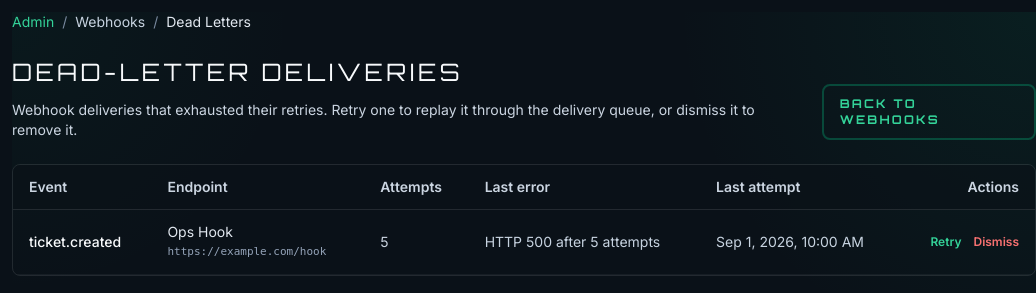
AdminWebhookDeadLettersPage › clears the busy state when a row action rejects
Click the button with aria-label "Retry ticket.created" at x=946, y=242, box [930, 234, 961, 250]
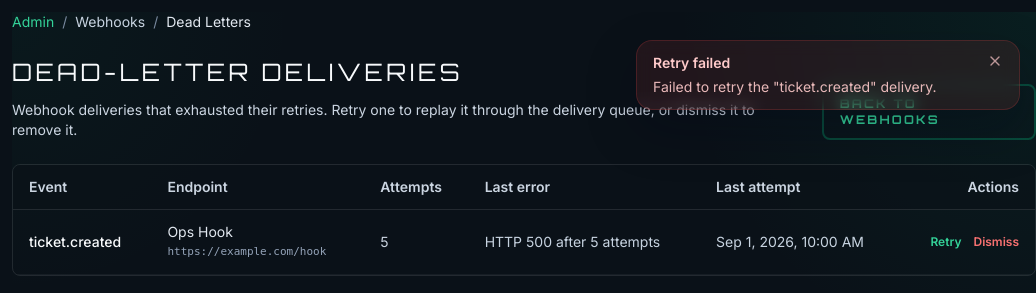
Expected: the text "Failed to retry the \"ticket.created\" delivery." is shown, [653, 77, 937, 97]
